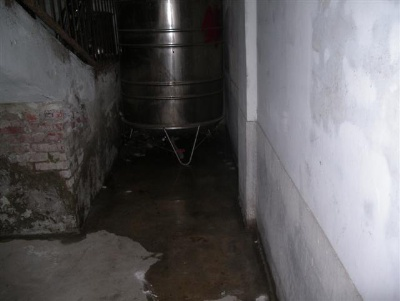water_tower: (119, 1, 225, 166)
